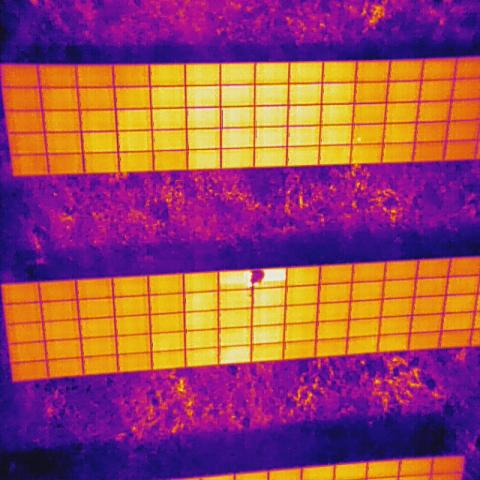fault: (265, 270, 287, 285), (354, 132, 366, 146)
